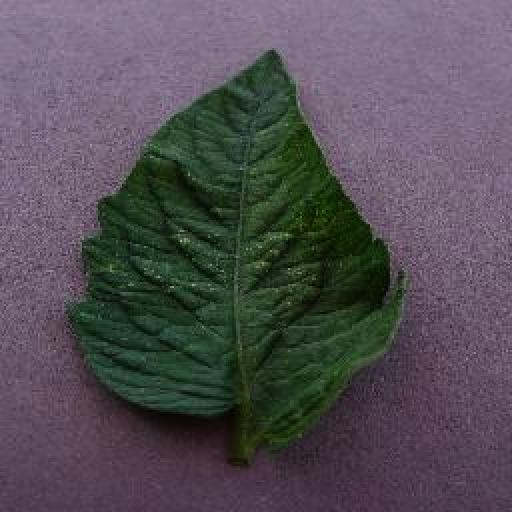disease_tomato: (68, 46, 407, 448)
